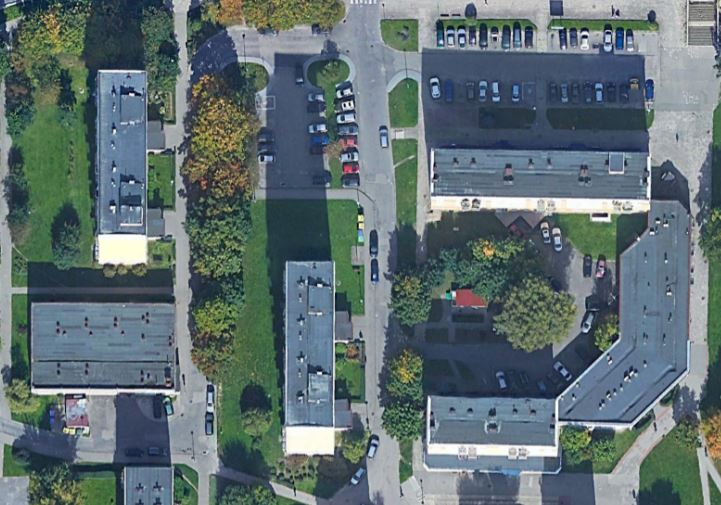block of flats: (547, 194, 698, 435), (83, 59, 175, 269), (425, 144, 659, 221), (412, 386, 567, 475), (277, 251, 341, 462), (114, 459, 184, 505)
shopping_center: (23, 294, 181, 397)
